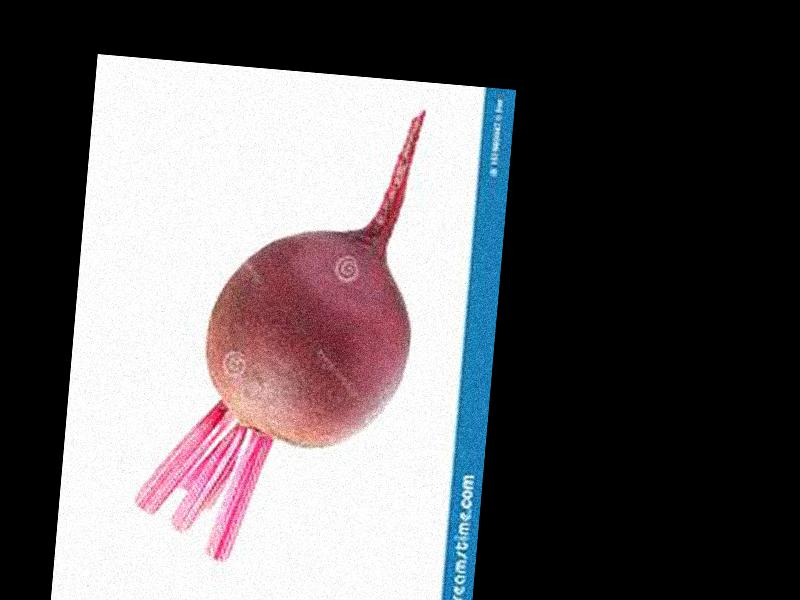Beet: (133, 92, 425, 573)
